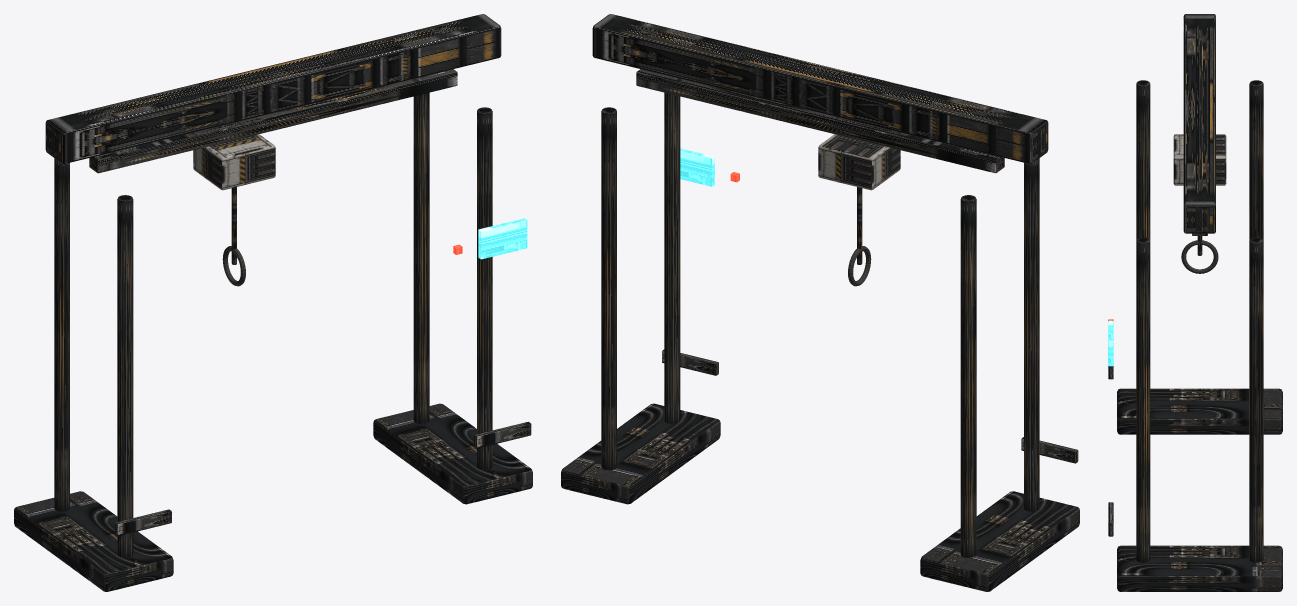
File: room_l1_img2_overhead_rail_gantry.glb
3 renders of one model, left to right at view 1: azimuth 30°, elevation 25°; view 2: azimuth 150°, elevation 25°; view 3: azimuth 270°, elevation 25°, orthographic. The views are drawn at different scales.
Visible parts, largest first — view 1: overhead_i_beam_top, gantry_foot_plate.001, gantry_foot_plate, underslung_rail_track, gantry_upright_post, gantry_upright_post.003, gantry_upright_post.001, gantry_upright_post.002, sliding_hoist_carriage, operator_status_screen, right_hazard_leg_band, left_hazard_leg_band; view 2: overhead_i_beam_top, gantry_foot_plate, gantry_foot_plate.001, underslung_rail_track, gantry_upright_post.001, gantry_upright_post.003, gantry_upright_post.002, gantry_upright_post, sliding_hoist_carriage, operator_status_screen; view 3: gantry_foot_plate.001, overhead_i_beam_top, gantry_foot_plate, gantry_upright_post.003, gantry_upright_post.002, gantry_upright_post, gantry_upright_post.001, sliding_hoist_carriage, load_hook_loop, operator_status_screen.
Part boxes in pixels (box(x1,y1,x2,y2)): overhead_i_beam_top: box(45, 14, 501, 163); gantry_foot_plate.001: box(373, 403, 532, 504); gantry_foot_plate: box(14, 491, 173, 591); underslung_rail_track: box(89, 69, 457, 173); gantry_upright_post: box(117, 195, 133, 557); gantry_upright_post.003: box(413, 92, 429, 423); gantry_upright_post.001: box(54, 158, 69, 511); gantry_upright_post.002: box(477, 107, 492, 470); sliding_hoist_carriage: box(193, 134, 275, 190); operator_status_screen: box(478, 218, 527, 259); right_hazard_leg_band: box(474, 421, 531, 448); left_hazard_leg_band: box(115, 509, 171, 535); overhead_i_beam_top: box(592, 14, 1048, 163); gantry_foot_plate: box(920, 491, 1079, 591); gantry_foot_plate.001: box(561, 403, 720, 504); underslung_rail_track: box(636, 69, 1004, 173); gantry_upright_post.001: box(960, 195, 976, 557); gantry_upright_post.003: box(601, 107, 616, 470); gantry_upright_post.002: box(664, 92, 680, 423); gantry_upright_post: box(1024, 158, 1039, 511); sliding_hoist_carriage: box(818, 134, 900, 190); operator_status_screen: box(680, 148, 714, 186); gantry_foot_plate.001: box(1117, 545, 1282, 591); overhead_i_beam_top: box(1183, 14, 1215, 233); gantry_foot_plate: box(1117, 388, 1282, 434); gantry_upright_post.003: box(1249, 237, 1263, 562); gantry_upright_post.002: box(1136, 237, 1150, 562); gantry_upright_post: box(1136, 80, 1150, 240); gantry_upright_post.001: box(1249, 80, 1263, 240); sliding_hoist_carriage: box(1173, 134, 1226, 185); load_hook_loop: box(1181, 240, 1218, 273); operator_status_screen: box(1108, 320, 1113, 366).
Size of the model in its own units: 2.25 by 2.13 by 0.864.
Materials: 8 (8 with a texture image).
